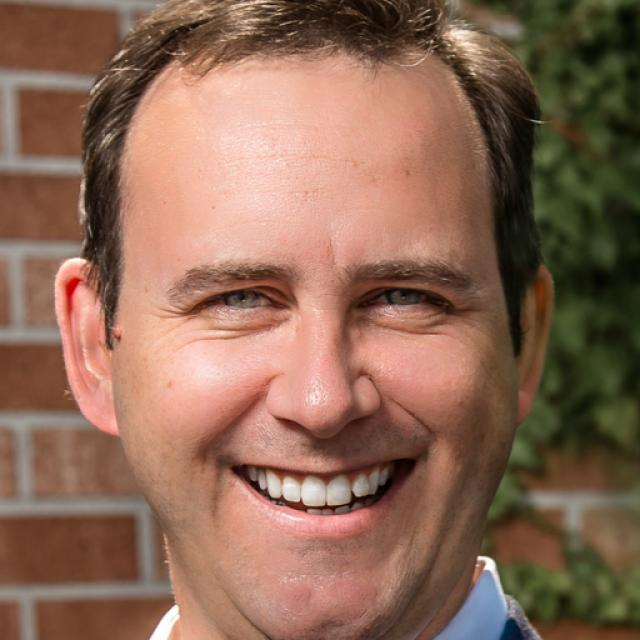happy: (115, 65, 519, 640)
